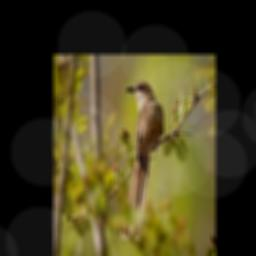Cuckoo: (122, 80, 164, 239)
